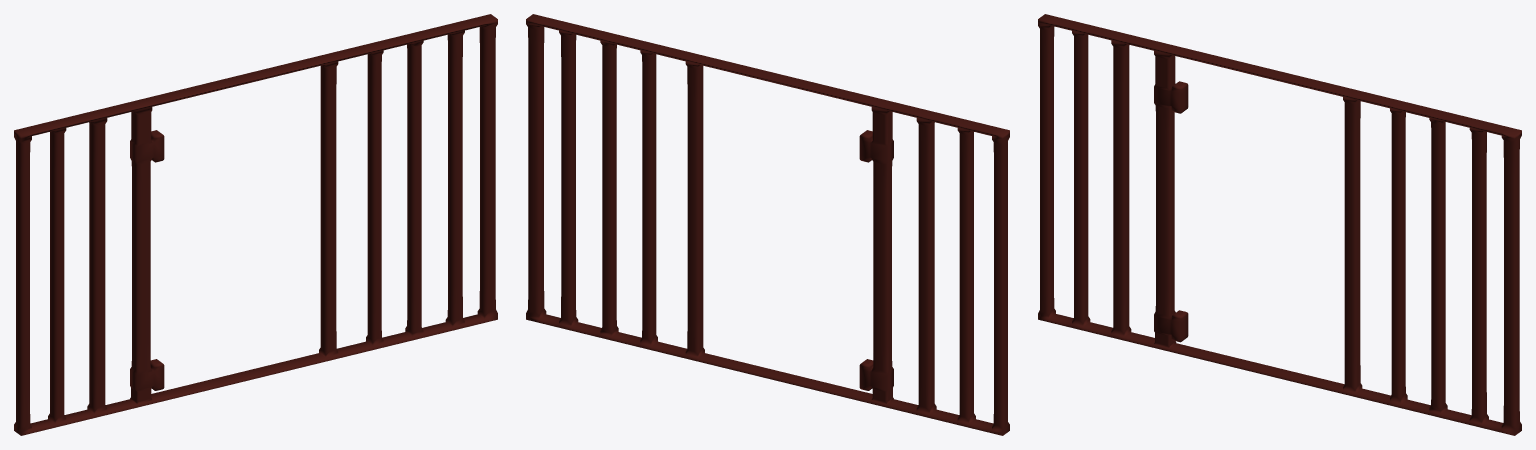
File: geo_newcell.fbx
The picture shows the model from 3 angles, left to right: view 1: azimuth 30°, elevation 25°; view 2: azimuth 150°, elevation 25°; view 3: azimuth 330°, elevation 25°; orthographic projection.
Parts seen in each view (by area): view 1: geo_barreaux; view 2: geo_barreaux; view 3: geo_barreaux.
Boxes of the visible parts, bbox=[...] form: geo_barreaux: bbox=[14, 14, 497, 435]; geo_barreaux: bbox=[526, 14, 1009, 435]; geo_barreaux: bbox=[1038, 14, 1521, 435].
Size of the model in its own units: 39.04 by 23.52 by 1.
